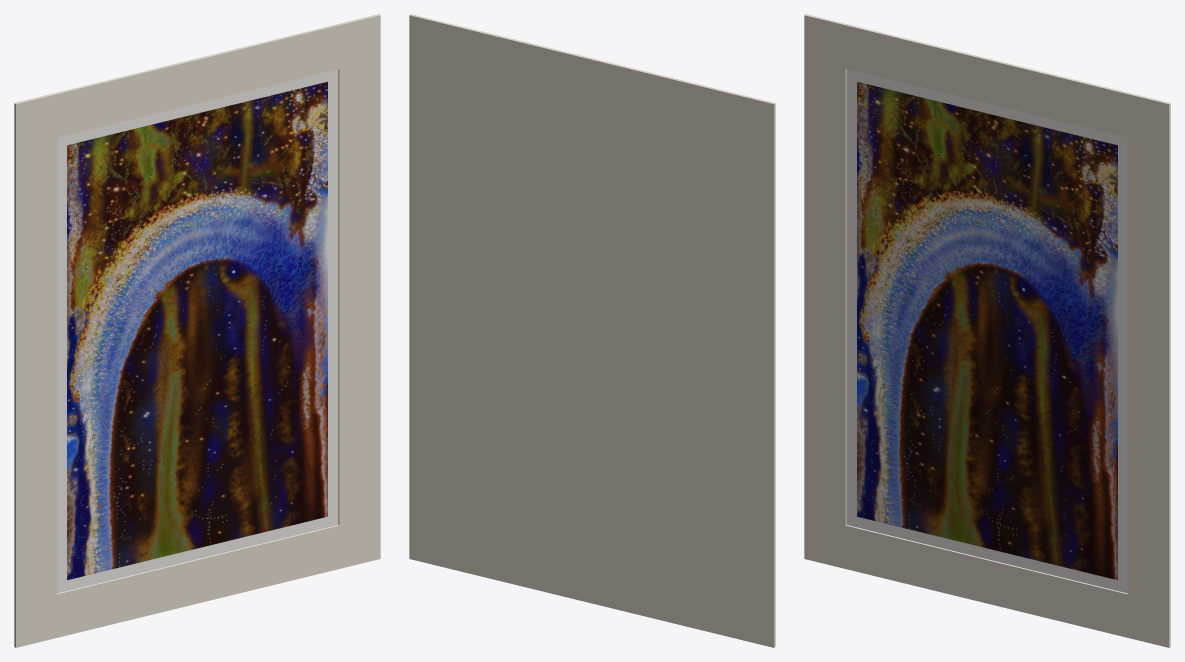
The model's file is os023_moyen_passe-partout.glb.
The picture shows the model from 3 angles, left to right: view 1: azimuth 30°, elevation 25°; view 2: azimuth 150°, elevation 25°; view 3: azimuth 330°, elevation 25°; orthographic projection.
Visible parts, largest first — view 1: os023_moyen_passe-partout; view 2: os023_moyen_passe-partout; view 3: os023_moyen_passe-partout.
Part boxes in pixels (box(x1,y1,x2,y2)): os023_moyen_passe-partout: box(14, 14, 380, 647); os023_moyen_passe-partout: box(409, 14, 775, 647); os023_moyen_passe-partout: box(804, 14, 1170, 647).
Bounding box in the file's own units: 0.7024 × 1 × 0.0055.
4 materials, 1 textured.
